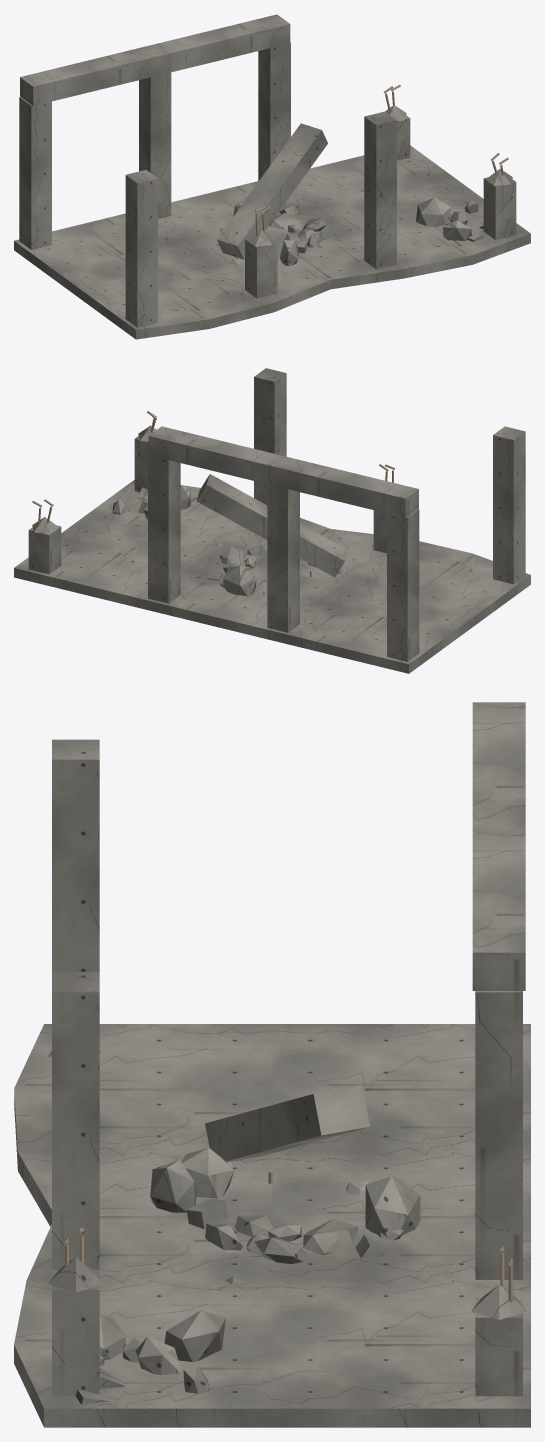
Rendered from Colonnade_Hall.fbx.
3 views of the same model, one above another, from view 1: azimuth 30°, elevation 25°; view 2: azimuth 150°, elevation 25°; view 3: azimuth 270°, elevation 25° (orthographic). The views are drawn at different scales.
Visible parts, largest first — view 1: Colonnade_Hall; view 2: Colonnade_Hall; view 3: Colonnade_Hall.
Boxes of the visible parts, bbox=[...] form: Colonnade_Hall: bbox=[14, 14, 530, 339]; Colonnade_Hall: bbox=[14, 368, 530, 673]; Colonnade_Hall: bbox=[14, 702, 530, 1427].
Size of the model in its own units: 8.6 by 3.67 by 4.89.
2 materials, 1 textured.
